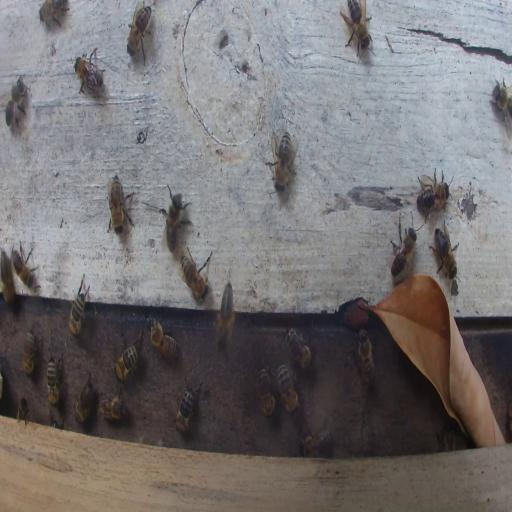nonpollenbee: (415, 168, 454, 219), (162, 184, 190, 254), (340, 0, 374, 56), (106, 173, 136, 234), (388, 218, 417, 279), (267, 130, 296, 190), (180, 246, 211, 302), (72, 48, 105, 97), (432, 223, 460, 280), (126, 2, 153, 59), (113, 329, 142, 382), (2, 75, 30, 129), (11, 239, 39, 292), (175, 382, 202, 432), (69, 272, 90, 336), (490, 76, 512, 132), (148, 318, 178, 359), (284, 328, 312, 370), (356, 328, 375, 389), (278, 362, 298, 417), (255, 364, 276, 416), (22, 329, 42, 375), (46, 352, 62, 406), (300, 429, 332, 456), (38, 0, 69, 27), (97, 393, 125, 422), (75, 379, 93, 423), (1, 249, 14, 306), (436, 426, 458, 453), (16, 396, 30, 425)
pollenbee: (216, 281, 236, 354)
